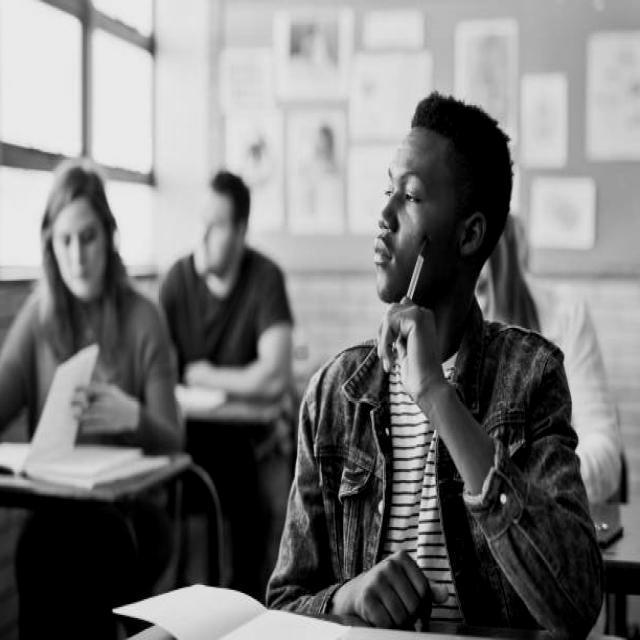Looking away: (371, 130, 461, 307), (49, 192, 112, 302), (190, 182, 238, 276)
